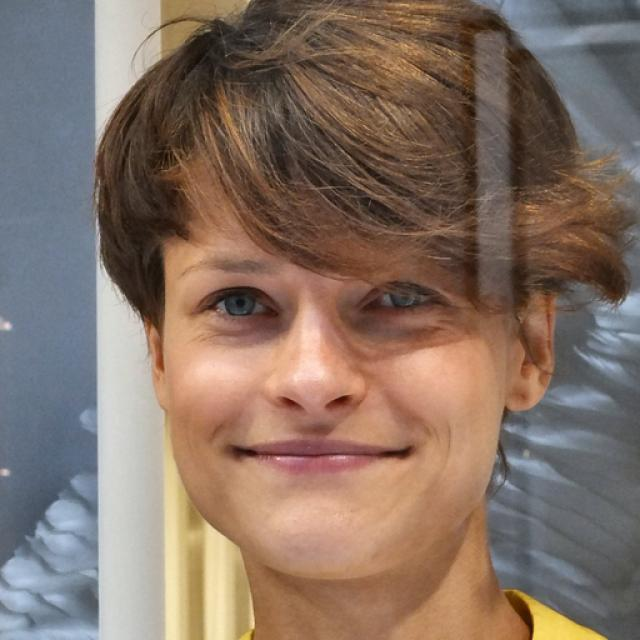happy: (162, 129, 508, 585)
